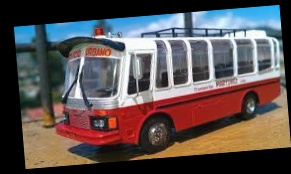bus: (50, 20, 289, 161)
